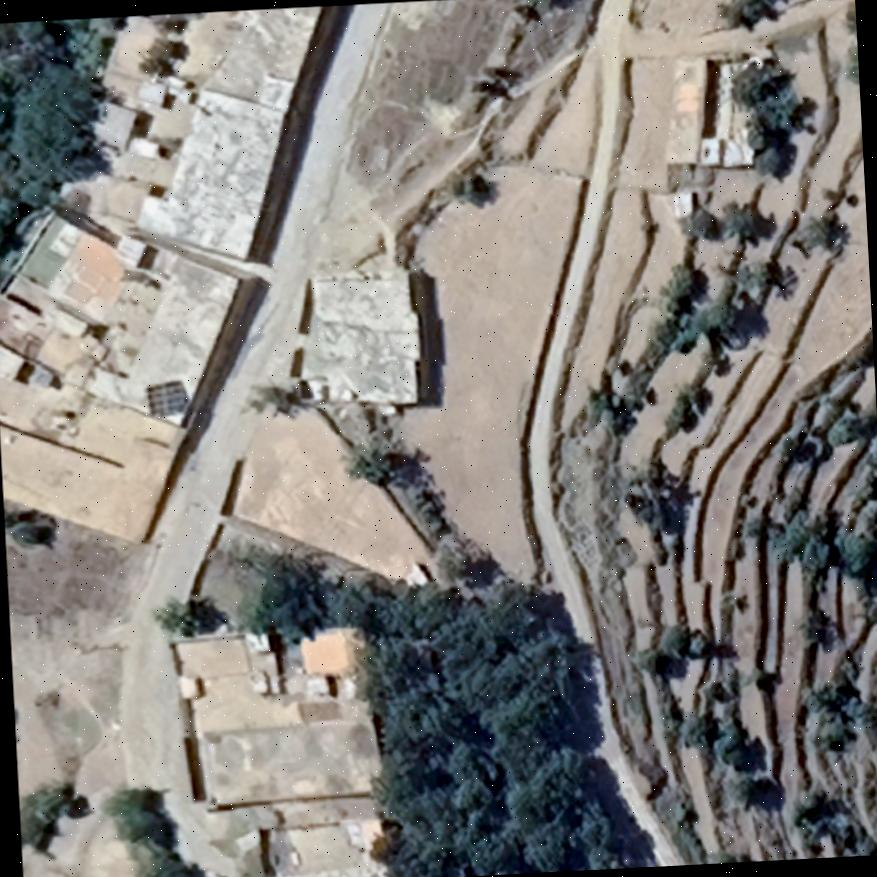Solarpanel: (140, 378, 191, 420)
